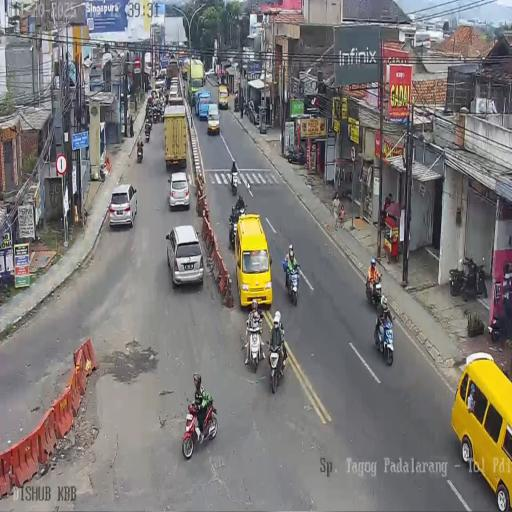3: (163, 104, 188, 170), (184, 58, 205, 108), (182, 58, 188, 79)
car: (451, 356, 512, 510), (236, 215, 273, 310), (166, 224, 204, 288), (109, 184, 138, 228), (168, 170, 190, 211), (207, 103, 220, 135), (218, 84, 228, 109), (155, 78, 166, 93), (204, 68, 215, 82), (157, 68, 167, 81)
truck: (181, 394, 219, 460), (450, 255, 487, 302), (243, 314, 264, 374), (373, 311, 394, 366), (267, 338, 286, 393), (284, 260, 300, 306), (366, 273, 382, 308), (488, 313, 504, 343), (286, 144, 305, 166), (230, 164, 238, 195), (144, 122, 152, 142), (137, 143, 143, 163), (152, 107, 159, 123), (234, 96, 239, 112)
